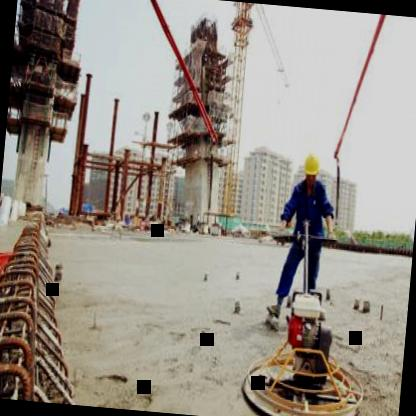helmet: (301, 150, 322, 188)
